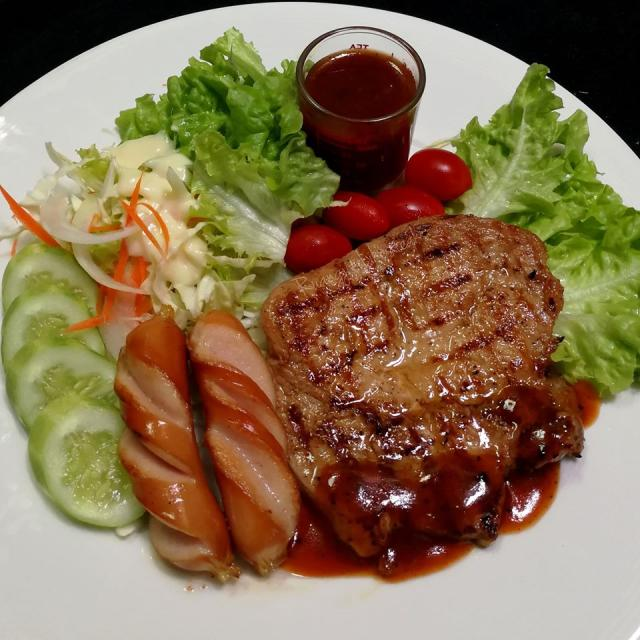Carbohydrate: (116, 300, 301, 585)
Protein: (260, 212, 589, 578)
Steak: (2, 0, 640, 640)
Vegetable: (6, 29, 338, 302), (425, 54, 640, 387), (0, 234, 119, 532)
